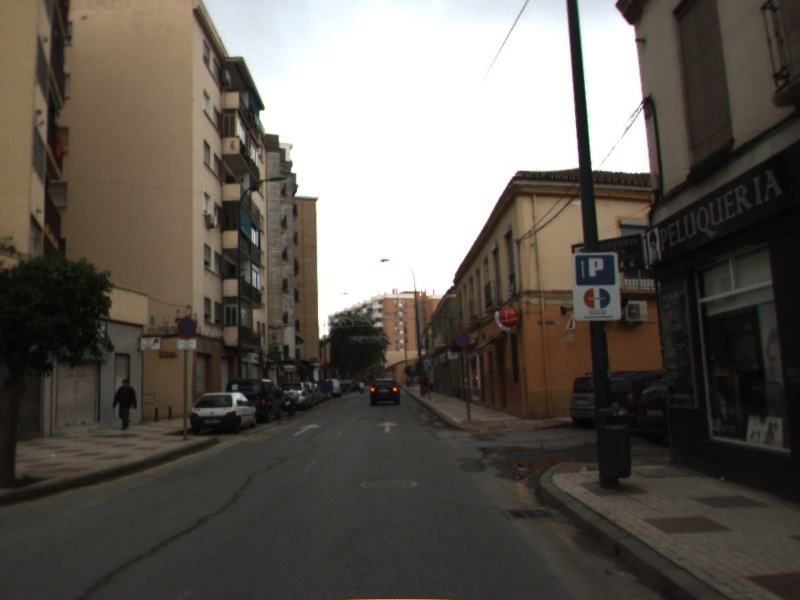STRAIGHT: (291, 421, 323, 438), (374, 419, 401, 434)
